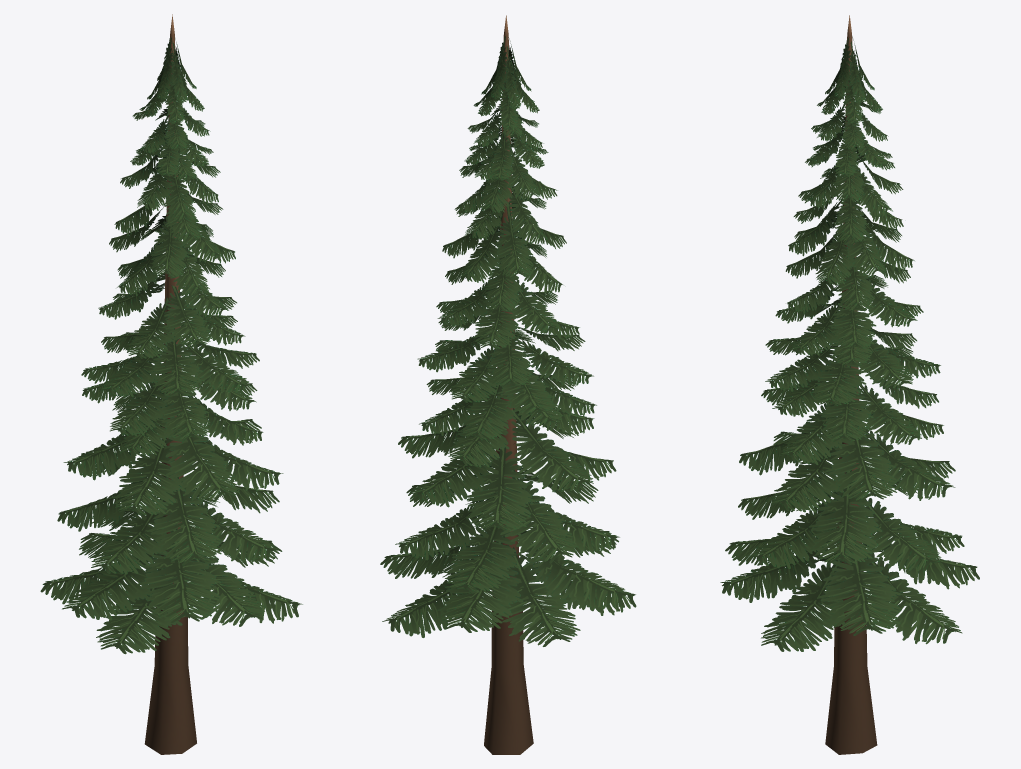
File: Pine_Tree_3A.fbx
3 views of the same model, side by side, from view 1: azimuth 30°, elevation 25°; view 2: azimuth 150°, elevation 25°; view 3: azimuth 270°, elevation 25° (orthographic).
Parts seen in each view (by area): view 1: Pine_Tree_3A; view 2: Pine_Tree_3A; view 3: Pine_Tree_3A.
Boxes of the visible parts, x1=… form: Pine_Tree_3A: x1=40, y1=14, x2=302, y2=754; Pine_Tree_3A: x1=380, y1=15, x2=636, y2=754; Pine_Tree_3A: x1=720, y1=15, x2=979, y2=754.
Bounding box in the file's own units: 679 × 1748 × 679.
